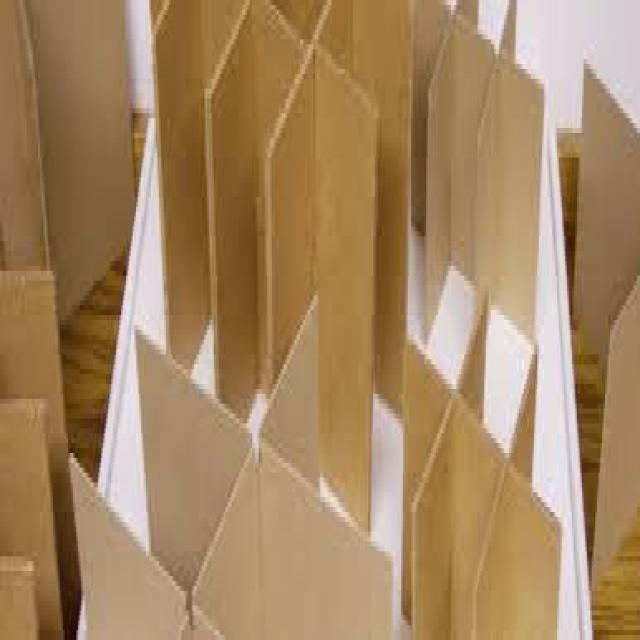cardboard: (148, 0, 411, 527), (133, 291, 390, 635), (402, 286, 561, 635), (411, 0, 542, 340), (0, 0, 133, 320), (571, 54, 639, 606), (68, 448, 255, 635), (0, 266, 70, 635)
